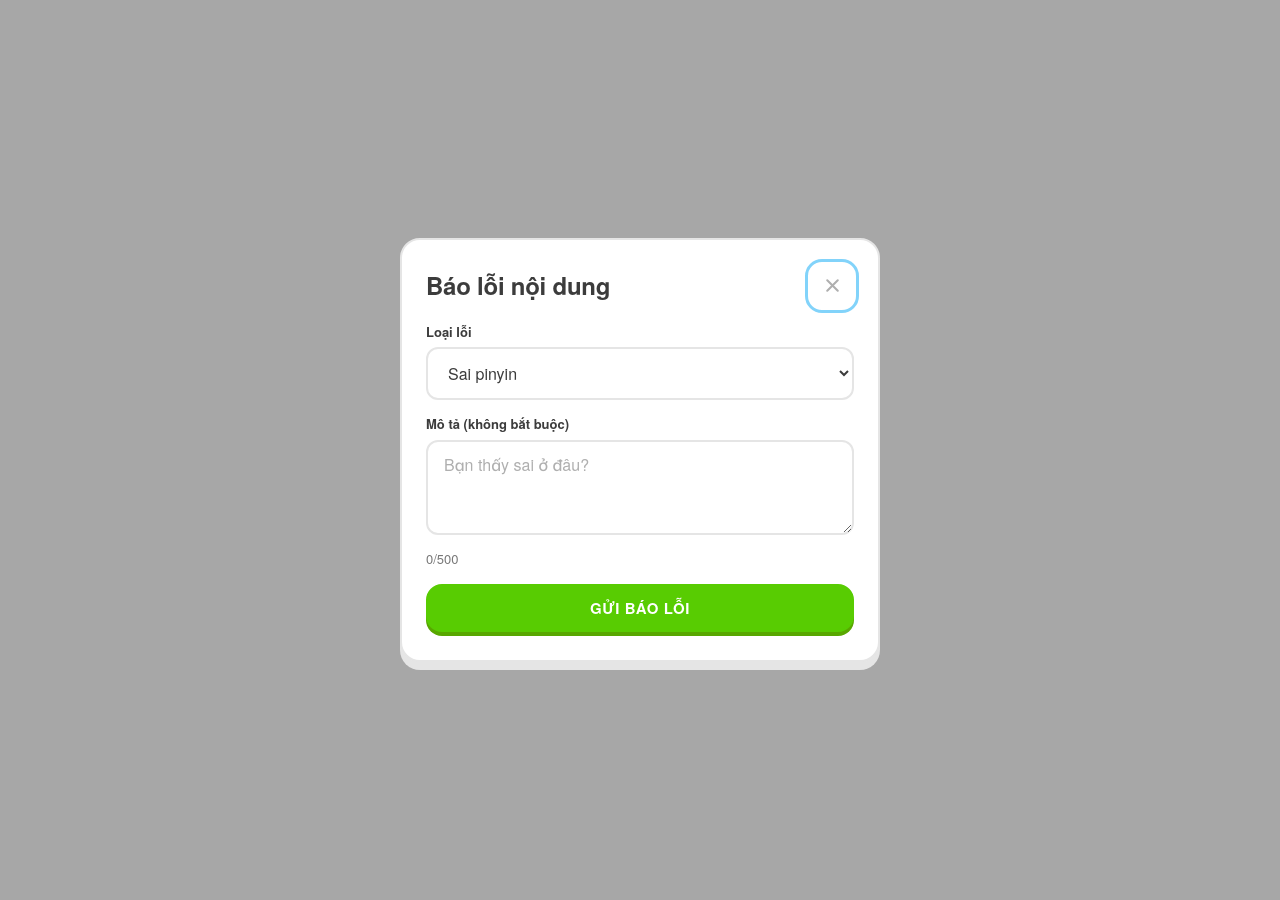
Test case: ReportSheet › lỗi mạng → thông báo thử lại, không mất nội dung đã gõ
Type "giữ lại" into the text box labelled "Mô tả (không bắt buộc)" at (640, 488), box [426,440,854,535]
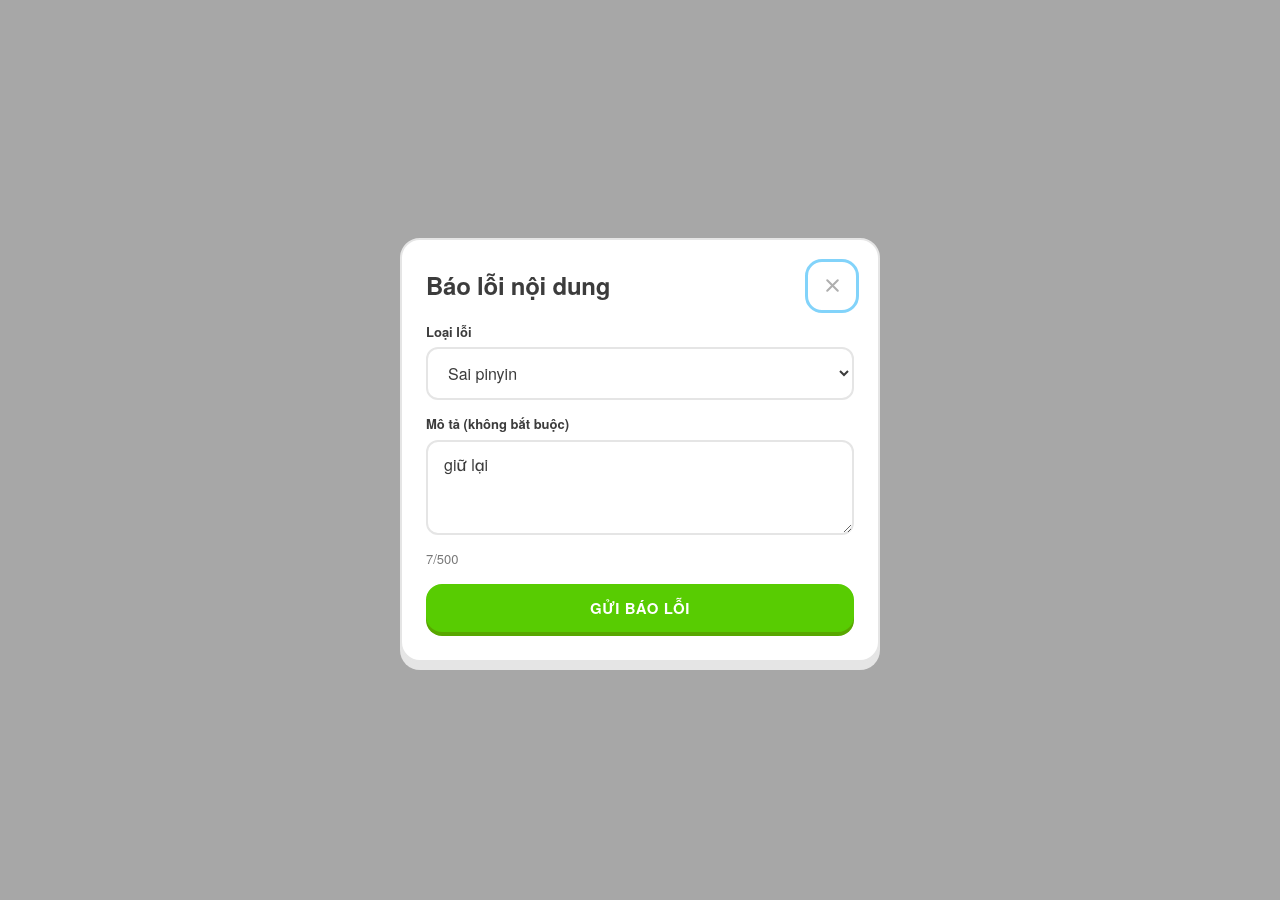
Click the button "Gửi báo lỗi" at (640, 608), box [426,584,854,632]
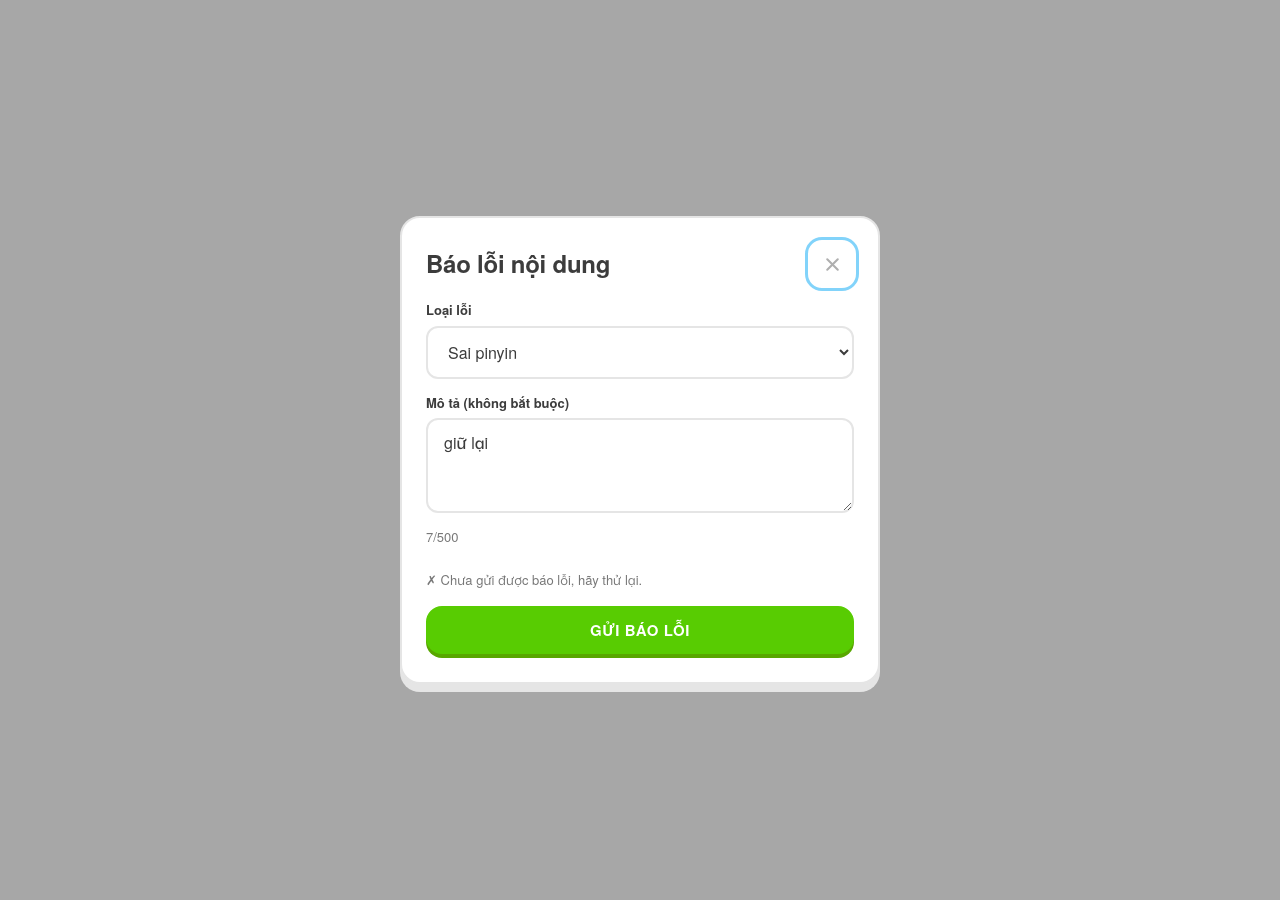
Expected: the message shows "thử lại", [440,570,642,589]
